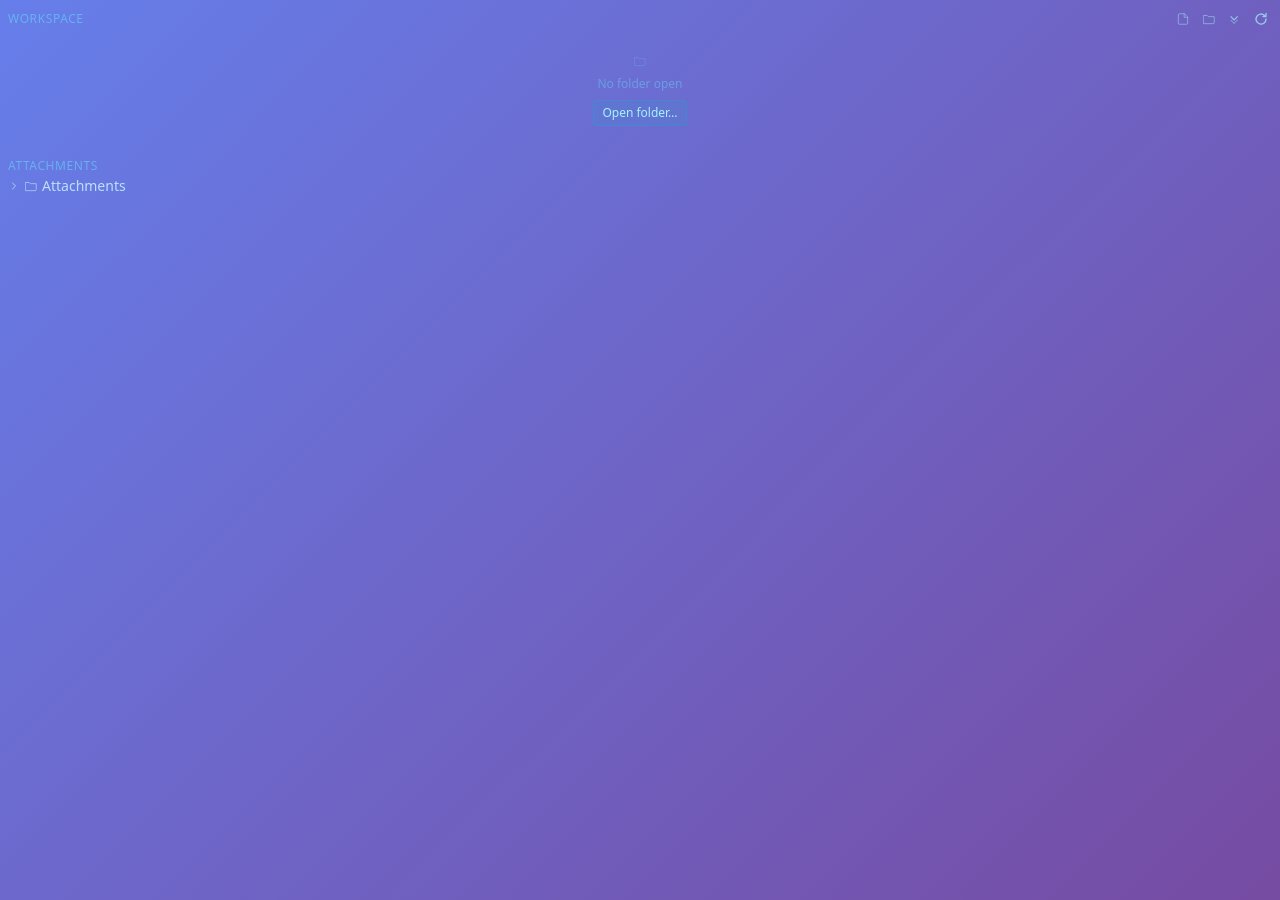
it: FileTree › clicking Open folder picks and renders root
The width and height of the screenshot is (1280, 900).
Click the button "Open folder…": (640, 113) [593, 100, 687, 126]
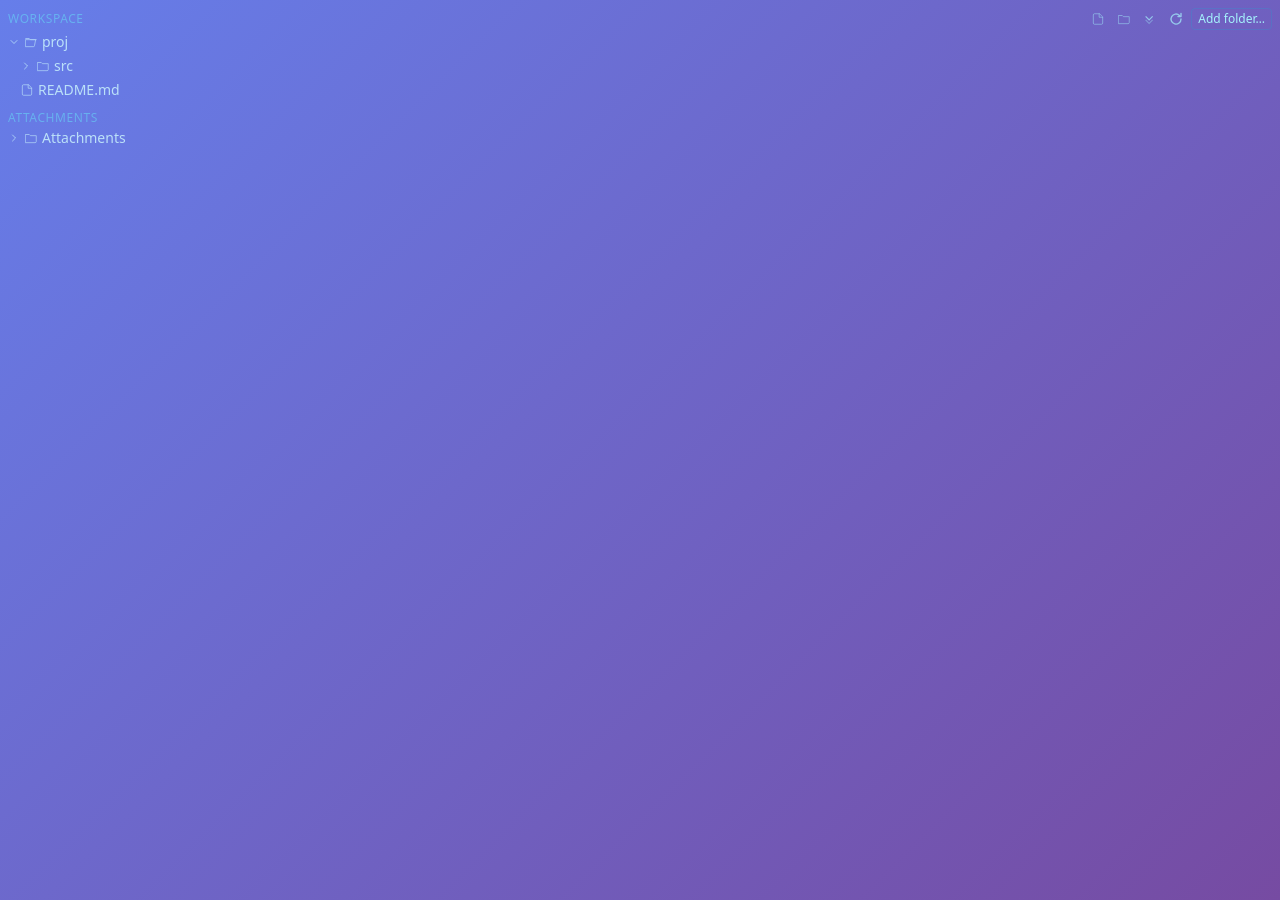
Check: the text "proj" is shown, box [42, 32, 68, 52]
